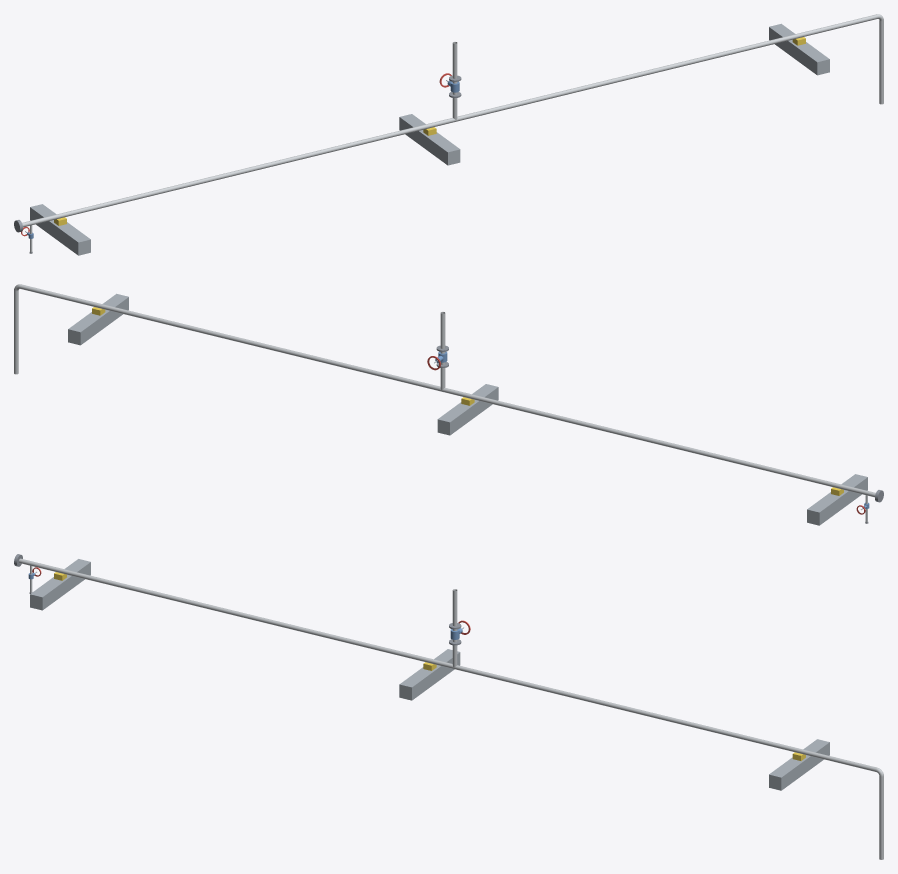
Rendered from PW-00011-view.glb.
3 views of the same model, one above another, from view 1: azimuth 30°, elevation 25°; view 2: azimuth 150°, elevation 25°; view 3: azimuth 330°, elevation 25° (orthographic).
Visible parts, largest first — view 1: pipe, steel; view 2: pipe, steel; view 3: pipe, steel.
Boxes of the visible parts, box(x1,y1,x2,y2) form: pipe: box(22, 14, 883, 252); steel: box(25, 23, 829, 255); pipe: box(14, 284, 875, 522); steel: box(68, 293, 867, 525); pipe: box(19, 558, 883, 859); steel: box(30, 559, 829, 790).
Size of the model in its own units: 10.32 by 1.87 by 1.
